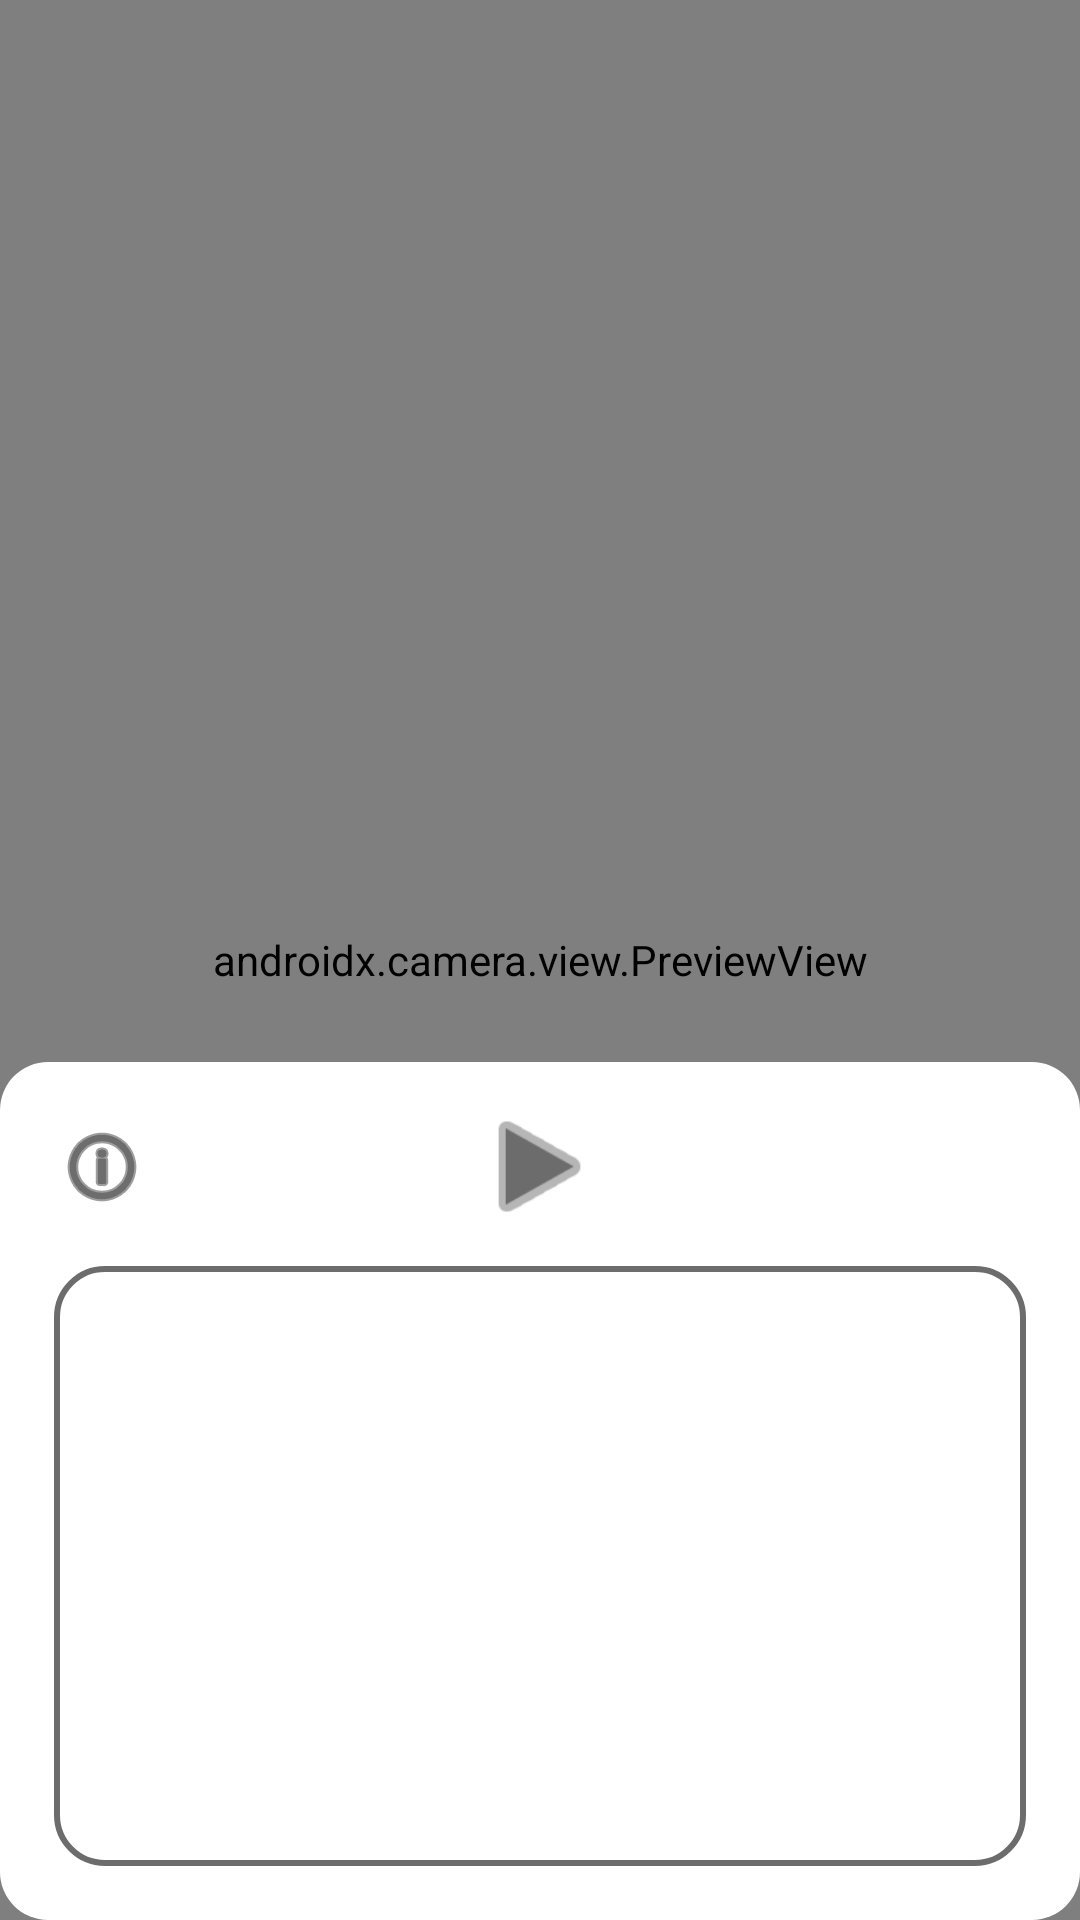

Named icons in this screenshot (1080px x 1920px) and their centers, (x=x, y=y):
info details: (x=102, y=1167)
play: (x=539, y=1166)
